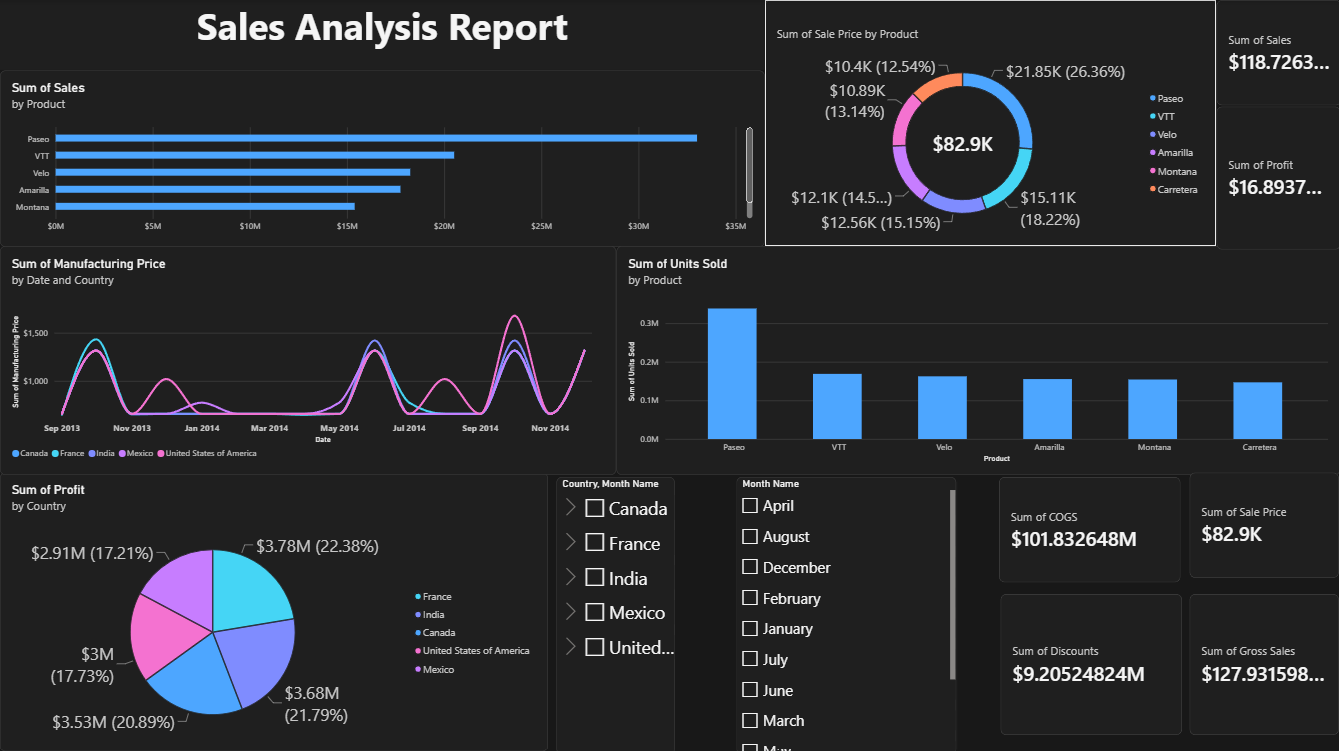

What the dashboard file says about the page in this screenshot:
{"tool":"powerbi","page":{"name":"Page 1","canvas":[1920,1080],"ordinal":0},"visuals":[{"type":"barChart","fields":{"Category":["financials.Product"],"Y":["Sum(financials.Sales)"]},"box":[0,100.2,1095.1,252.9],"z":1},{"type":"pieChart","fields":{"Category":["financials.Country"],"Y":["Sum(financials.Profit)"]},"box":[0,677.6,785,400.8],"z":2},{"type":"donutChart","title":" ","fields":{"Category":["financials.Product"],"Y":["Sum(financials.Sale Price)"]},"box":[1095.1,0,646.6,353.1],"z":3},{"type":"columnChart","fields":{"Category":["financials.Product"],"Y":["Sum(financials.Units Sold)"]},"box":[882.5,353,1036.6,327.8],"z":4},{"type":"lineChart","fields":{"Category":["financials.Date"],"Series":["financials.Country"],"Y":["Sum(financials.Manufacturing Price)"]},"box":[0,353,882.5,327.8],"z":5},{"type":"cardVisual","fields":{"Data":["Sum(financials.Sale Price)"]},"box":[1703.5,677.6,214.8,151.8],"z":6},{"type":"cardVisual","fields":{"Data":["Sum(financials.Sales)"]},"box":[1741.7,0,179.3,151.3],"z":7},{"type":"cardVisual","fields":{"Data":["Sum(financials.Gross Sales)"]},"box":[1703.5,851.8,214.8,202.5],"z":8},{"type":"cardVisual","fields":{"Data":["Sum(financials.Profit)"]},"box":[1741.7,152.7,178.9,205.2],"z":9},{"type":"cardVisual","fields":{"Data":["Sum(financials.COGS)"]},"box":[1431.5,682.4,261,151.3],"z":10},{"type":"cardVisual","fields":{"Data":["Sum(financials.Discounts)"]},"box":[1433.9,851.8,261,202.5],"z":11},{"type":"textbox","box":[0,0,1095.1,100.2],"z":13},{"type":"slicer","fields":{"Values":["financials.Country","financials.Month Name"]},"box":[796.9,682.4,169.4,398.4],"z":14},{"type":"slicer","fields":{"Values":["financials.Month Name"]},"box":[1054.6,682.4,314.9,398.4],"z":15}]}

Visuals, with their boxes in screenshot pixels (x1, y1, x2, y2), scaled from the page's 1920x1080 canvas onto the 1339x751 screenshot:
barChart - financials.Product x Sum(financials.Sales): x1=0, y1=70, x2=764, y2=246
pieChart - financials.Country x Sum(financials.Profit): x1=0, y1=471, x2=547, y2=750
" " donutChart: x1=764, y1=0, x2=1215, y2=246
columnChart - financials.Product x Sum(financials.Units Sold): x1=615, y1=245, x2=1338, y2=473
lineChart - financials.Date x financials.Country: x1=0, y1=245, x2=615, y2=473
cardVisual - Sum(financials.Sale Price): x1=1188, y1=471, x2=1338, y2=577
cardVisual - Sum(financials.Sales): x1=1215, y1=0, x2=1338, y2=105
cardVisual - Sum(financials.Gross Sales): x1=1188, y1=592, x2=1338, y2=733
cardVisual - Sum(financials.Profit): x1=1215, y1=106, x2=1338, y2=249
cardVisual - Sum(financials.COGS): x1=998, y1=475, x2=1180, y2=580
cardVisual - Sum(financials.Discounts): x1=1000, y1=592, x2=1182, y2=733
textbox: x1=0, y1=0, x2=764, y2=70
slicer - financials.Country x financials.Month Name: x1=556, y1=475, x2=674, y2=750
slicer - financials.Month Name: x1=735, y1=475, x2=955, y2=750
